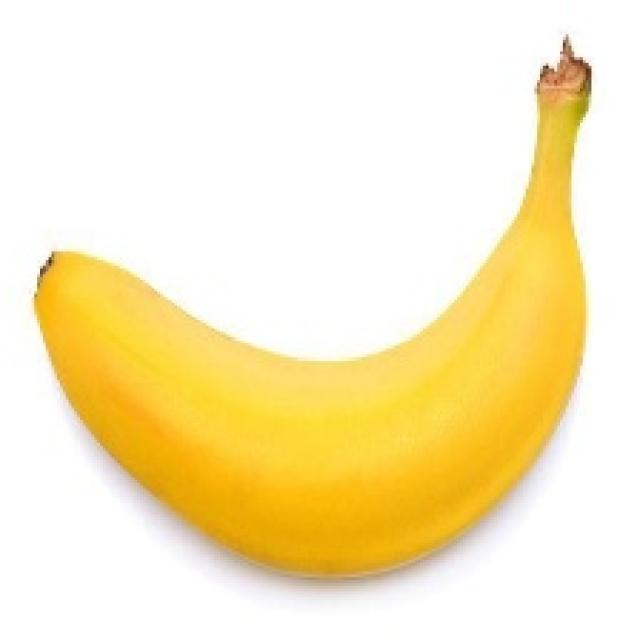Banana: (31, 31, 592, 580)
